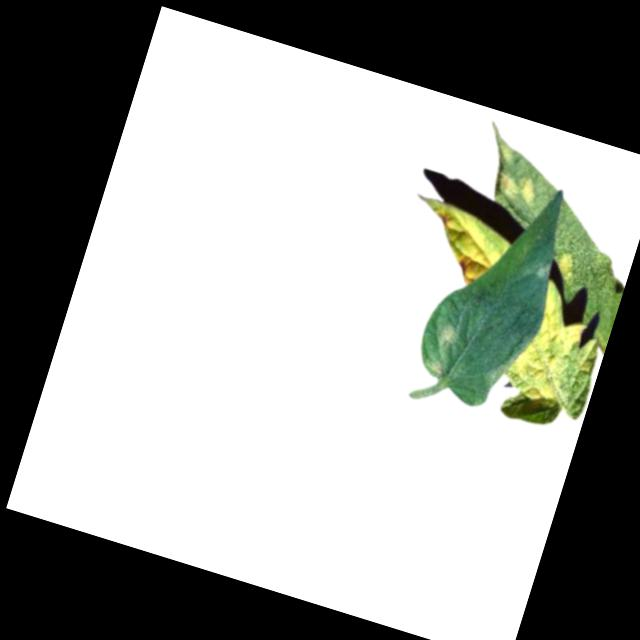Leaf_Mold: (498, 279, 617, 413), (394, 191, 513, 290), (494, 168, 541, 207), (557, 249, 582, 278), (439, 318, 463, 346)
